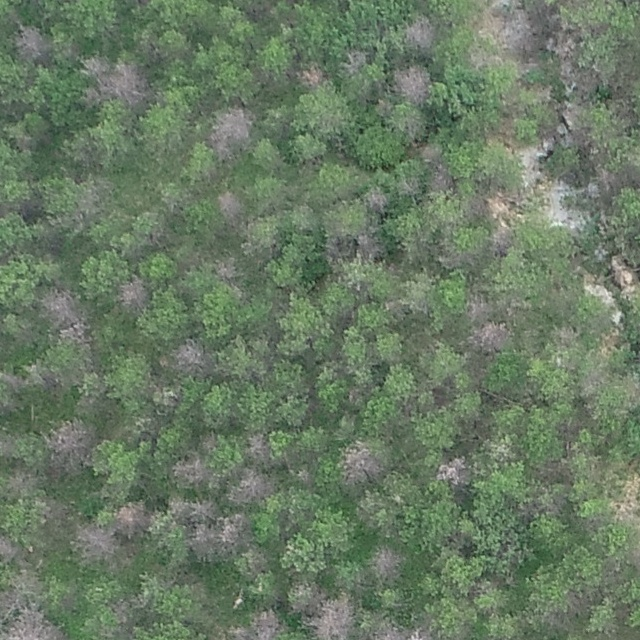unhealthy: (207, 106, 255, 163), (98, 57, 150, 106), (303, 591, 355, 640), (226, 464, 281, 507), (72, 516, 119, 563), (0, 608, 67, 640), (48, 414, 96, 453), (392, 61, 433, 105), (37, 286, 85, 322), (114, 497, 152, 542), (339, 440, 378, 482), (370, 544, 406, 588), (187, 522, 222, 564), (167, 496, 220, 523), (2, 464, 41, 500), (72, 178, 104, 221), (365, 614, 416, 640), (12, 23, 48, 59), (402, 273, 432, 313), (174, 334, 205, 372), (612, 470, 640, 512), (425, 165, 458, 199), (286, 579, 319, 613), (489, 218, 519, 255), (118, 276, 149, 311), (171, 456, 206, 487), (221, 511, 248, 550), (478, 320, 509, 353), (243, 543, 272, 578), (356, 226, 381, 265), (58, 322, 94, 349), (438, 240, 469, 271), (404, 18, 434, 50), (439, 454, 471, 484), (466, 287, 495, 320), (36, 496, 71, 523), (150, 383, 180, 414), (11, 568, 40, 600), (359, 186, 392, 213), (252, 605, 277, 640), (244, 430, 269, 464), (340, 48, 370, 76), (295, 63, 323, 92), (20, 359, 48, 388), (215, 189, 243, 217), (485, 194, 517, 217), (76, 56, 111, 77), (213, 255, 240, 281), (80, 83, 108, 108), (196, 428, 219, 454), (416, 141, 440, 161)
